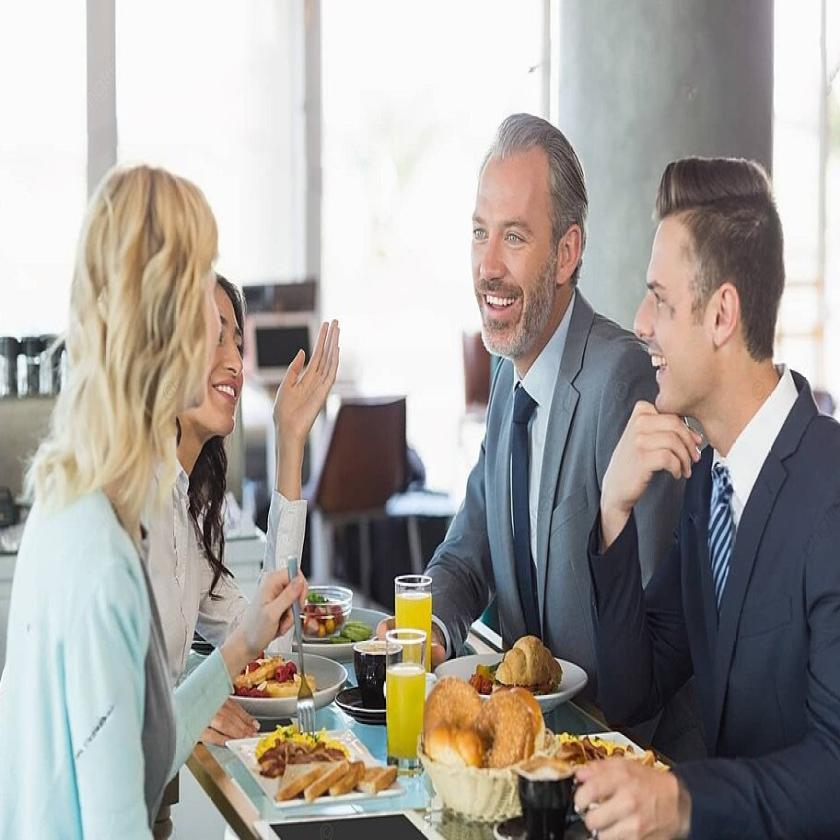Sin_casco: (635, 136, 791, 443), (86, 153, 225, 440), (460, 106, 593, 366), (193, 255, 247, 472)
